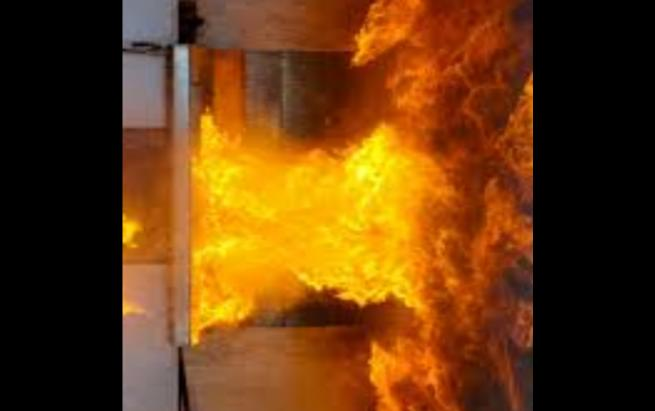fire: (187, 0, 524, 411)
smoke: (416, 0, 533, 411)
